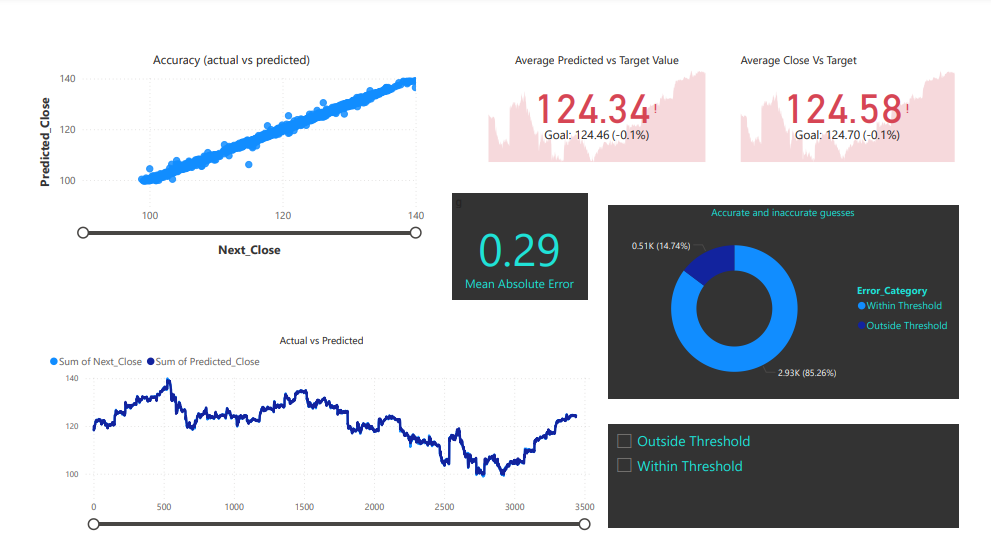

The page's visual inventory and layout, read from the dashboard file:
{"tool":"powerbi","page":{"name":"Page 1","canvas":[1280,720],"ordinal":0},"visuals":[{"type":"scatterChart","title":"Accuracy (actual vs predicted)","fields":{"Y":["data_with_predictions.Predicted_Close"],"X":["data_with_predictions.Next_Close"]},"box":[28.6,50.4,522.4,272.1],"z":0},{"type":"lineChart","title":"Actual  vs  Predicted","fields":{"Y":["Sum(data_with_predictions.Next_Close)","Sum(data_with_predictions.Predicted_Close)"],"Category":["data_with_predictions.Index"]},"box":[42,425,735.7,285.6],"z":1000},{"type":"kpi","title":"Average Predicted vs Target Value","fields":{"Indicator":["data_with_predictions.Average_Predicted_Close"],"Goal":["data_with_predictions.Target_Predicted_Close"],"TrendLine":["data_with_predictions.Index"]},"box":[626.6,50.4,299,151.2],"z":2000},{"type":"kpi","title":"Average Close Vs Target","fields":{"Indicator":["data_with_predictions.Average_Next_Close"],"Goal":["data_with_predictions.Target_Next_Close"],"TrendLine":["data_with_predictions.Index"]},"box":[962.5,50.4,295.6,151.2],"z":3000},{"type":"card","title":"g","fields":{"Values":["data_with_predictions.MAE"]},"box":[582.9,238.5,181.4,142.8],"z":4000},{"type":"donutChart","title":"Accurate and inaccurate guesses","fields":{"Category":["data_with_predictions.Error_Category"],"Y":["CountNonNull(data_with_predictions.Error_Category)"]},"box":[791.2,255.3,467,257],"z":5000},{"type":"slicer","fields":{"Values":["data_with_predictions.Error_Category"]},"box":[791.2,545.9,467,137.7],"z":6000}]}

Visuals, with their boxes in screenshot pixels (x1, y1, x2, y2):
"Accuracy (actual vs predicted)" scatterChart: (x1=47, y1=55, x2=433, y2=256)
"Actual  vs  Predicted" lineChart: (x1=57, y1=332, x2=600, y2=539)
"Average Predicted vs Target Value" kpi: (x1=489, y1=55, x2=710, y2=167)
"Average Close Vs Target" kpi: (x1=737, y1=55, x2=955, y2=167)
"g" card: (x1=456, y1=194, x2=590, y2=300)
"Accurate and inaccurate guesses" donutChart: (x1=610, y1=207, x2=955, y2=397)
slicer - data_with_predictions.Error_Category: (x1=610, y1=421, x2=955, y2=523)
